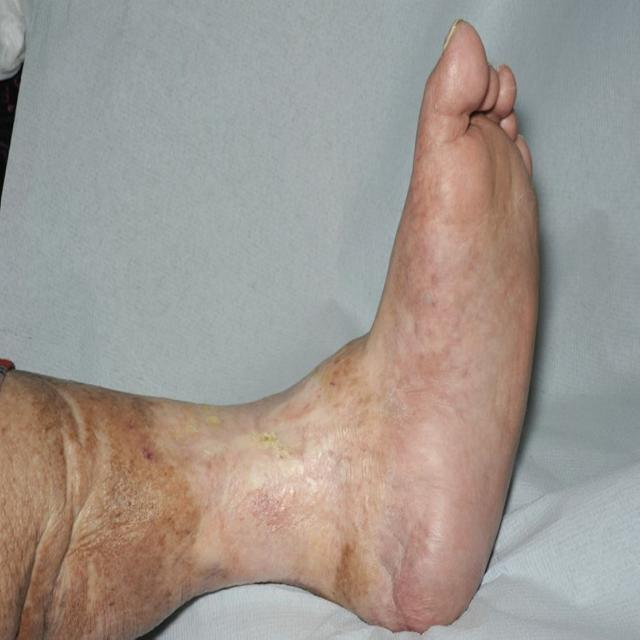wound: (166, 399, 407, 588)
